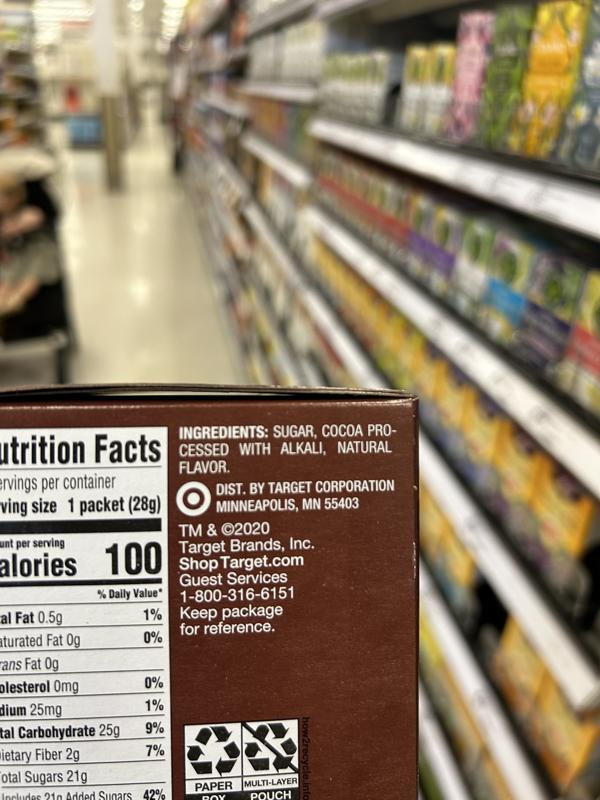ingredients: (175, 420, 400, 477)
